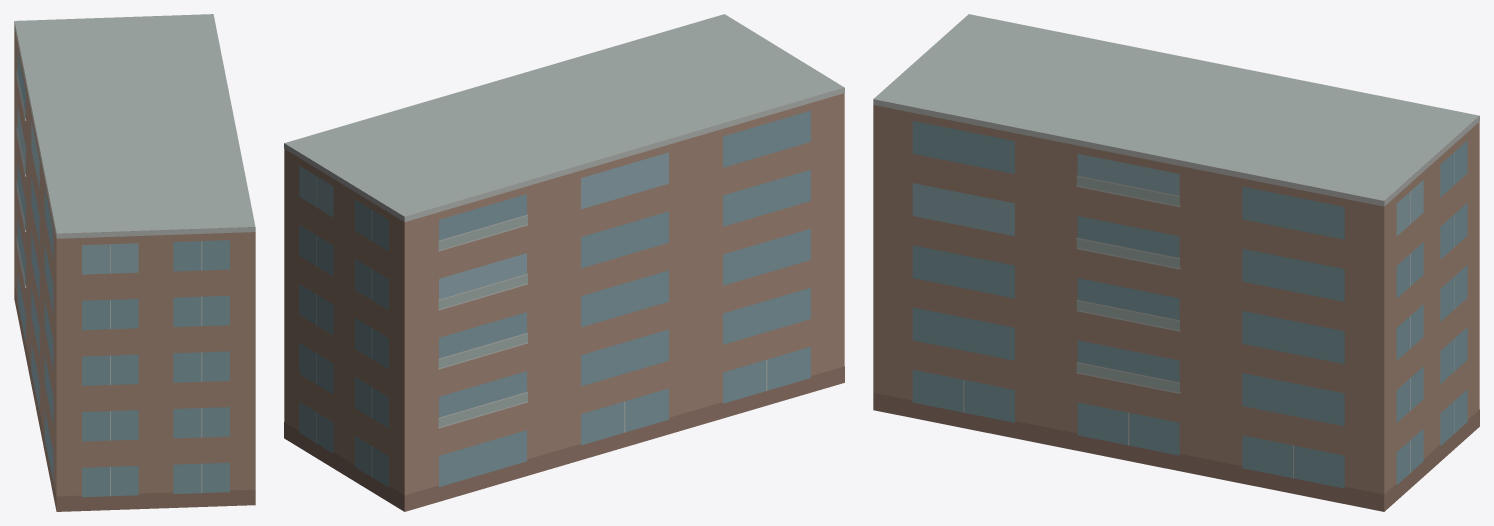
The model's file is survey-upis-32553327.glb.
3 views of the same model, side by side, from view 1: azimuth 30°, elevation 25°; view 2: azimuth 150°, elevation 25°; view 3: azimuth 270°, elevation 25° (orthographic). The views are drawn at different scales.
Parts seen in each view (by area): view 1: survey-upis-32553327.tmp; view 2: survey-upis-32553327.tmp; view 3: survey-upis-32553327.tmp.
Part boxes in pixels (<box>): survey-upis-32553327.tmp: <box>14,14,255,511</box>; survey-upis-32553327.tmp: <box>284,14,844,511</box>; survey-upis-32553327.tmp: <box>873,14,1479,511</box>.
Bounding box in the file's own units: 17.03 × 13.2 × 23.34.
